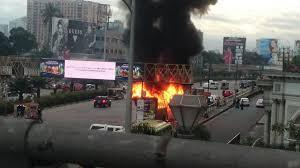fire: (117, 72, 218, 117)
